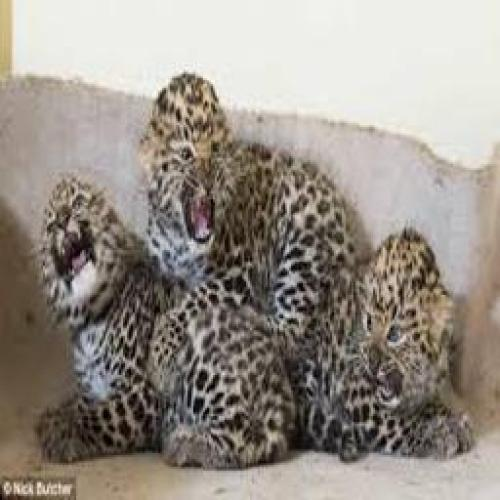amur_leopard-endangered: (34, 179, 296, 468), (139, 73, 355, 347), (293, 230, 476, 464)
